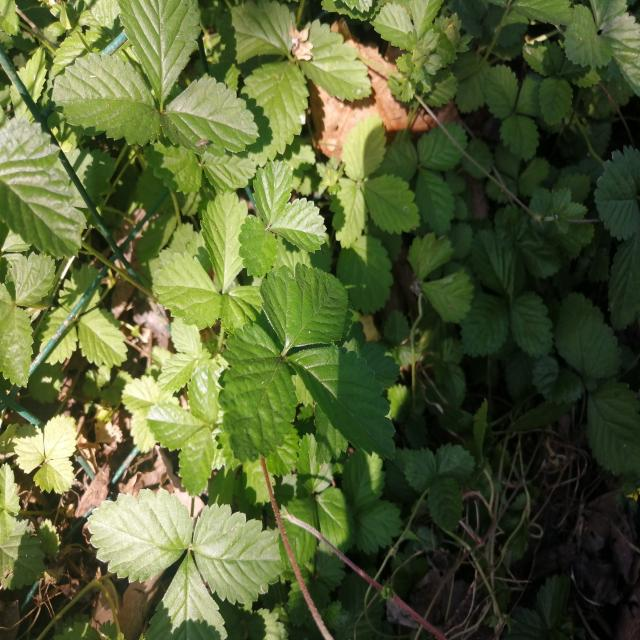Mock_strawberry: (221, 260, 401, 480), (86, 484, 276, 635)
